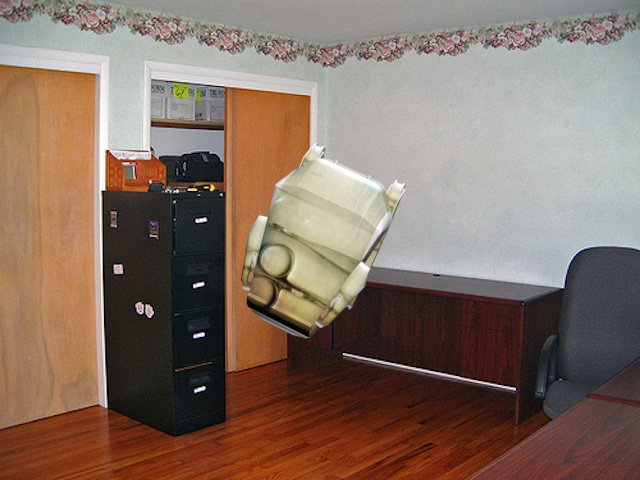back_pack: (240, 138, 412, 344)
